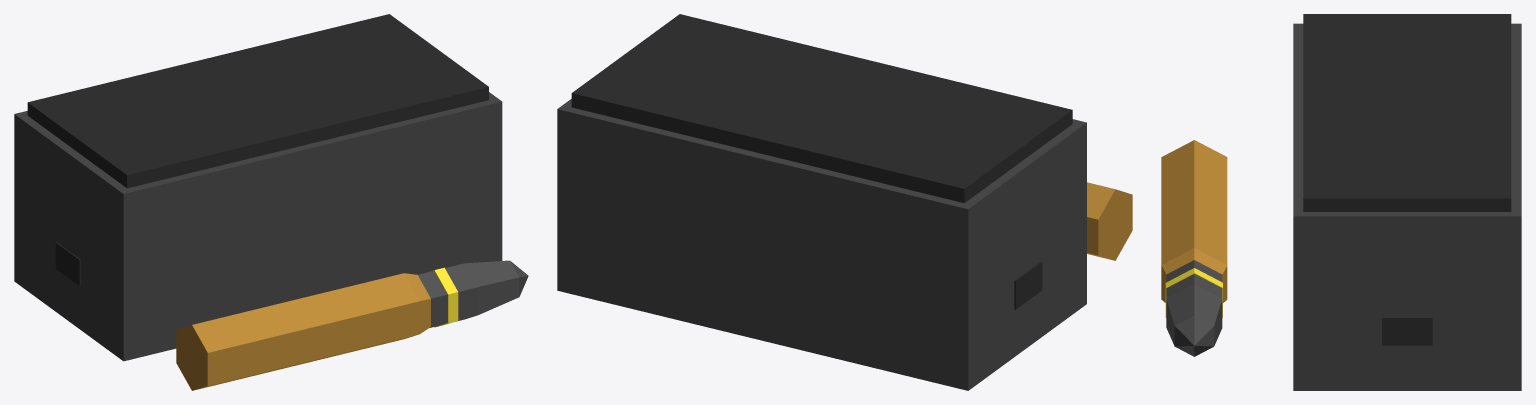
The model's file is ce_ammo_heavy_heat_c.obj.
The picture shows the model from 3 angles, left to right: view 1: azimuth 30°, elevation 25°; view 2: azimuth 150°, elevation 25°; view 3: azimuth 270°, elevation 25°; orthographic projection. The views are drawn at different scales.
Parts seen in each view (by area): view 1: ce_ammo_heavy_heat_c_0, ce_ammo_heavy_heat_c_1, ce_ammo_heavy_heat_c_3, ce_ammo_heavy_heat_c_8, ce_ammo_heavy_heat_c_7, ce_ammo_heavy_heat_c_5, ce_ammo_heavy_heat_c_2, ce_ammo_heavy_heat_c_4, ce_ammo_heavy_heat_c_6; view 2: ce_ammo_heavy_heat_c_0, ce_ammo_heavy_heat_c_1, ce_ammo_heavy_heat_c_3, ce_ammo_heavy_heat_c_2; view 3: ce_ammo_heavy_heat_c_0, ce_ammo_heavy_heat_c_1, ce_ammo_heavy_heat_c_3, ce_ammo_heavy_heat_c_8, ce_ammo_heavy_heat_c_2, ce_ammo_heavy_heat_c_9, ce_ammo_heavy_heat_c_4, ce_ammo_heavy_heat_c_7, ce_ammo_heavy_heat_c_5, ce_ammo_heavy_heat_c_6.
Part boxes in pixels (x1,y1,x2,y2): ce_ammo_heavy_heat_c_0: (14,92,502,361); ce_ammo_heavy_heat_c_1: (27,14,488,188); ce_ammo_heavy_heat_c_3: (176,273,419,390); ce_ammo_heavy_heat_c_8: (465,260,519,314); ce_ammo_heavy_heat_c_7: (445,263,478,321); ce_ammo_heavy_heat_c_5: (418,270,447,327); ce_ammo_heavy_heat_c_2: (55,242,80,286); ce_ammo_heavy_heat_c_4: (404,273,430,333); ce_ammo_heavy_heat_c_6: (428,267,458,327); ce_ammo_heavy_heat_c_0: (557,99,1086,390); ce_ammo_heavy_heat_c_1: (571,14,1072,203); ce_ammo_heavy_heat_c_3: (1087,182,1132,260); ce_ammo_heavy_heat_c_2: (1014,261,1042,309); ce_ammo_heavy_heat_c_0: (1293,23,1521,390); ce_ammo_heavy_heat_c_1: (1303,14,1511,211); ce_ammo_heavy_heat_c_3: (1161,140,1227,264); ce_ammo_heavy_heat_c_8: (1166,284,1222,345); ce_ammo_heavy_heat_c_2: (1382,317,1432,345); ce_ammo_heavy_heat_c_9: (1174,315,1214,356); ce_ammo_heavy_heat_c_4: (1161,248,1227,302); ce_ammo_heavy_heat_c_7: (1166,273,1222,298); ce_ammo_heavy_heat_c_5: (1166,260,1222,282); ce_ammo_heavy_heat_c_6: (1165,268,1222,317).
Size of the model in its own units: 0.906 by 0.41 by 0.71.
